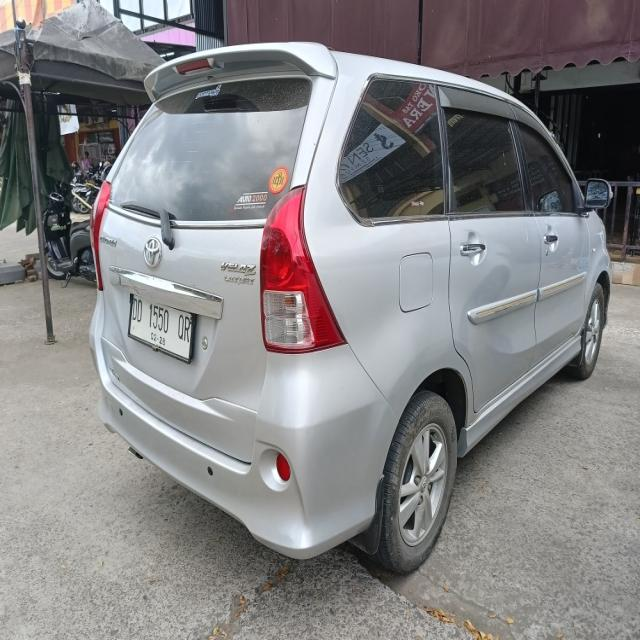plates: (124, 286, 198, 364)
